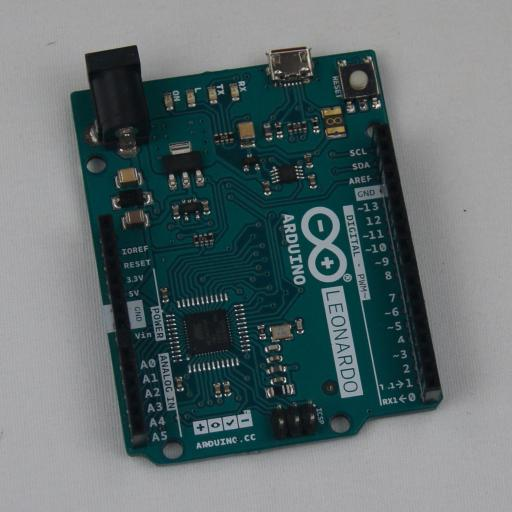Arduino Leonardo: (70, 45, 443, 466)
